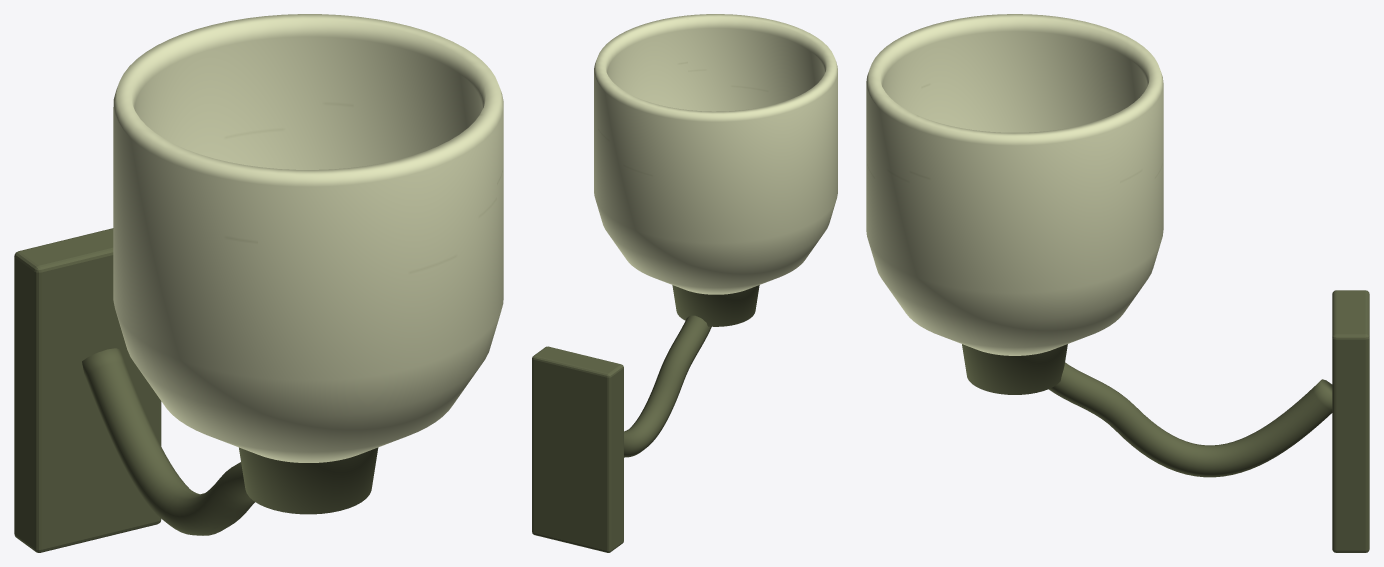
Rendered from CurvedLamp_ARCH01_F1C1.fbx.
3 views of the same model, side by side, from view 1: azimuth 30°, elevation 25°; view 2: azimuth 150°, elevation 25°; view 3: azimuth 270°, elevation 25° (orthographic). The views are drawn at different scales.
Parts seen in each view (by area): view 1: CurvedLamp; view 2: CurvedLamp; view 3: CurvedLamp.
Boxes of the visible parts, x1,y1,x2,y2 form: CurvedLamp: [14, 14, 503, 552]; CurvedLamp: [532, 14, 837, 552]; CurvedLamp: [866, 14, 1369, 552].
Size of the model in its own units: 0.222 by 0.3751 by 0.376.
Materials: 2 (1 with a texture image).
